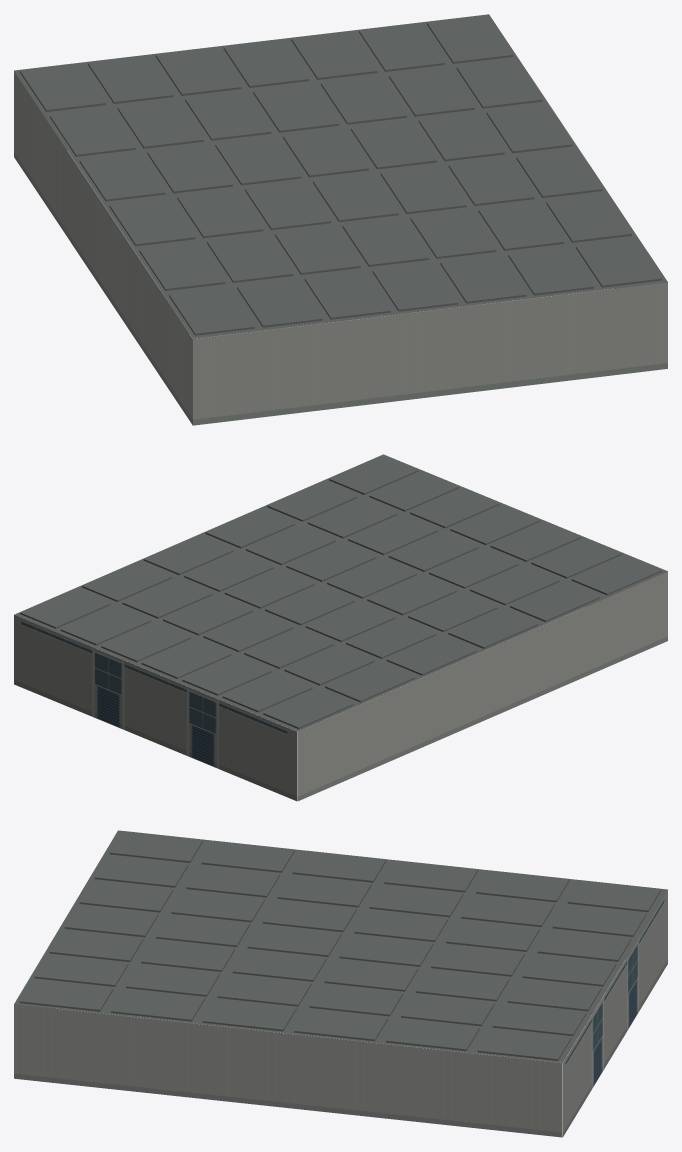
The picture shows the model from 3 angles, top to bottom: view 1: azimuth 30°, elevation 25°; view 2: azimuth 150°, elevation 25°; view 3: azimuth 270°, elevation 25°; orthographic projection. The views are drawn at different scales.
Visible parts, largest first — view 1: 0363100012223044; view 2: 0363100012223044; view 3: 0363100012223044.
Part boxes in pixels (bbox=[...]): 0363100012223044: bbox=[14, 14, 667, 425]; 0363100012223044: bbox=[14, 454, 667, 801]; 0363100012223044: bbox=[14, 830, 667, 1137].
Size of the model in its own units: 58.33 by 8.9 by 69.28.
Materials: 2 (1 with a texture image).
